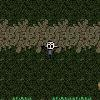Jason: (40, 41, 59, 58)
